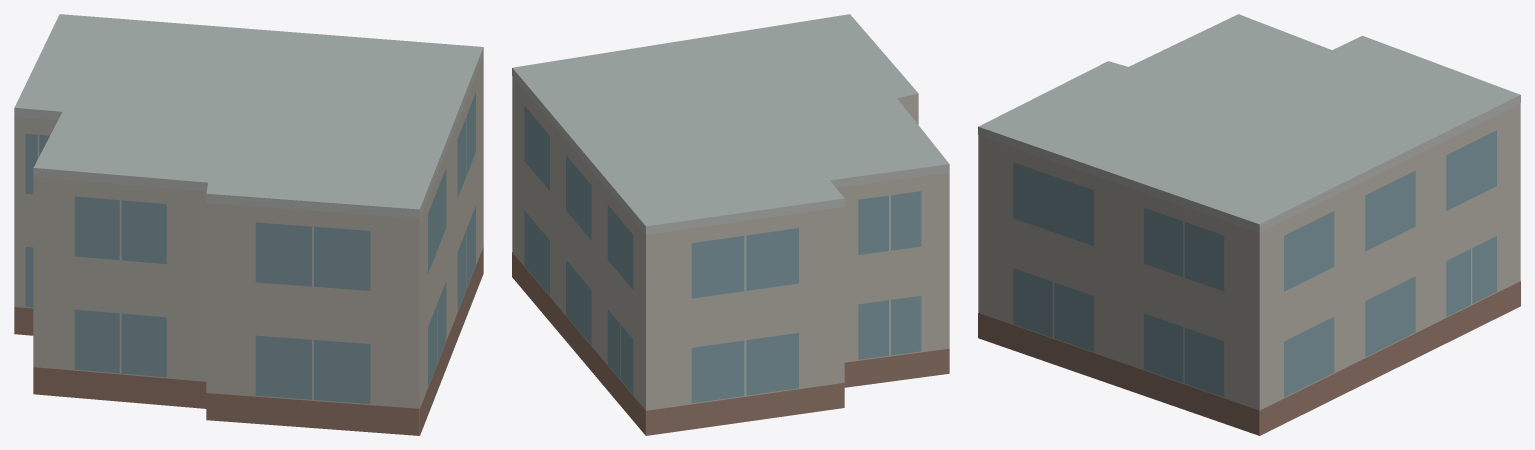
The model's file is survey-upis-32655118.glb.
3 views of the same model, side by side, from view 1: azimuth 30°, elevation 25°; view 2: azimuth 150°, elevation 25°; view 3: azimuth 270°, elevation 25° (orthographic). The views are drawn at different scales.
Parts seen in each view (by area): view 1: survey-upis-32655118.tmp; view 2: survey-upis-32655118.tmp; view 3: survey-upis-32655118.tmp.
Part boxes in pixels (bbox=[...]): survey-upis-32655118.tmp: bbox=[14, 14, 483, 435]; survey-upis-32655118.tmp: bbox=[512, 14, 949, 435]; survey-upis-32655118.tmp: bbox=[978, 14, 1520, 435].
Bounding box in the file's own units: 13.02 × 6.1 × 14.19.
